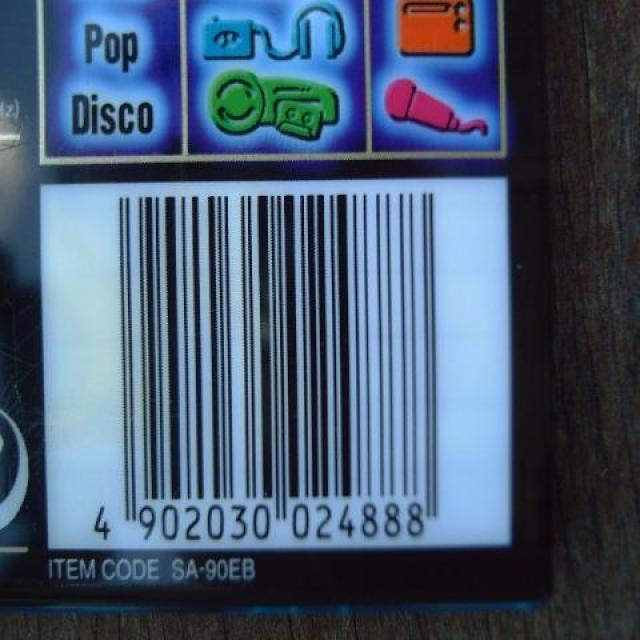Barcode: (42, 184, 503, 543)
